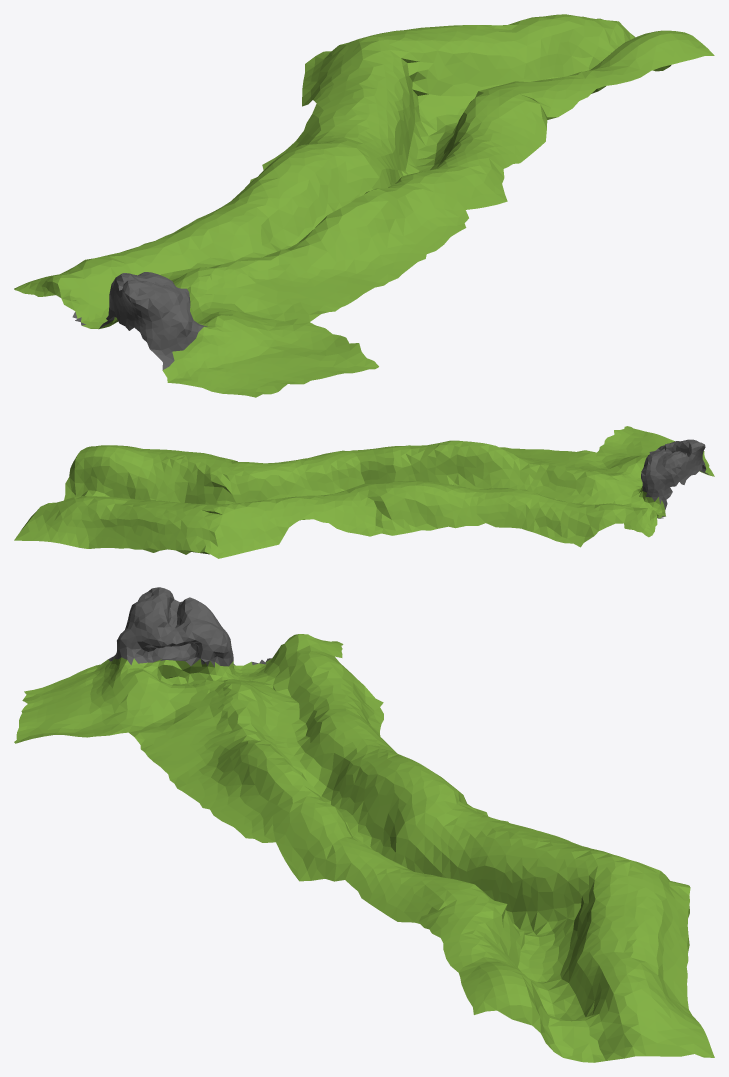
The model's file is waatefalll.fbx.
The picture shows the model from 3 angles, top to bottom: view 1: azimuth 30°, elevation 25°; view 2: azimuth 150°, elevation 25°; view 3: azimuth 270°, elevation 25°; orthographic projection. The views are drawn at different scales.
Visible parts, largest first — view 1: Plane; view 2: Plane; view 3: Plane.
Boxes of the visible parts, box(x1,y1,x2,y2) form: Plane: box(14, 14, 714, 397); Plane: box(14, 426, 714, 558); Plane: box(14, 587, 714, 1062).
Size of the model in its own units: 13472 by 2032 by 10783.
